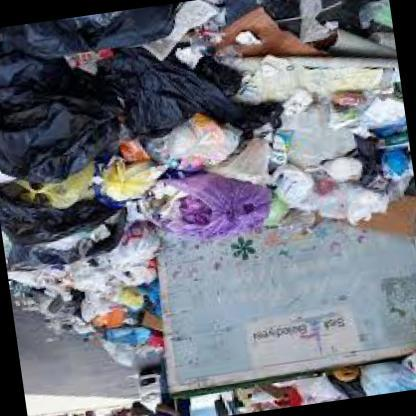Garbage: (70, 0, 407, 249), (119, 0, 415, 238), (0, 14, 154, 362), (230, 357, 415, 414)
